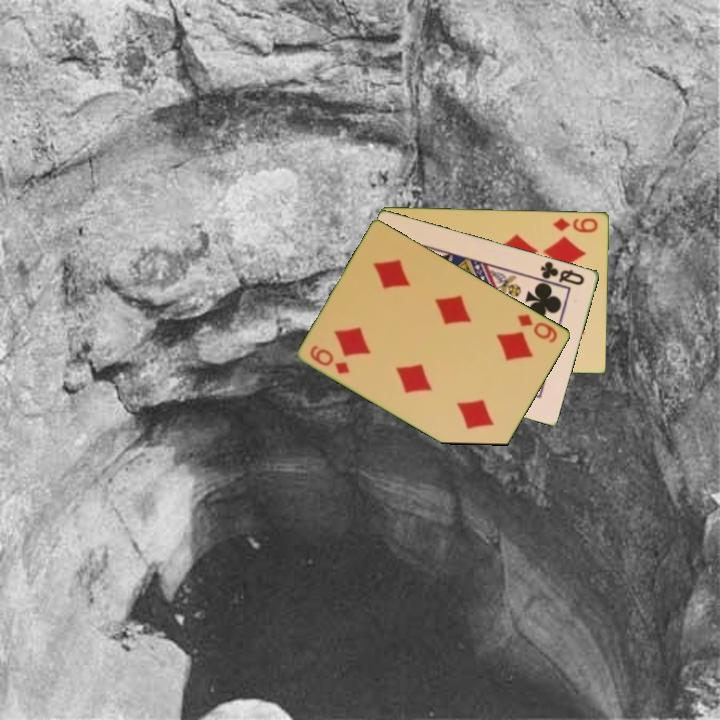6d: (514, 310, 561, 346), (307, 341, 353, 377)
9d: (549, 214, 601, 235)
Qc: (534, 257, 588, 290)
